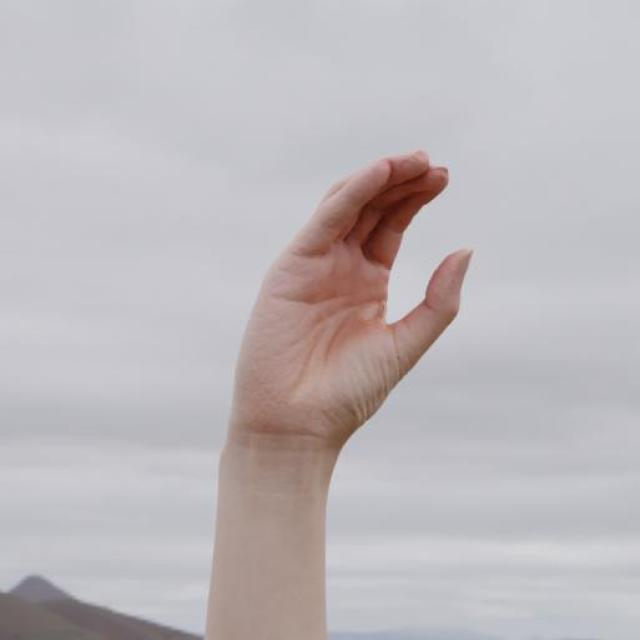C: (203, 126, 508, 488)
